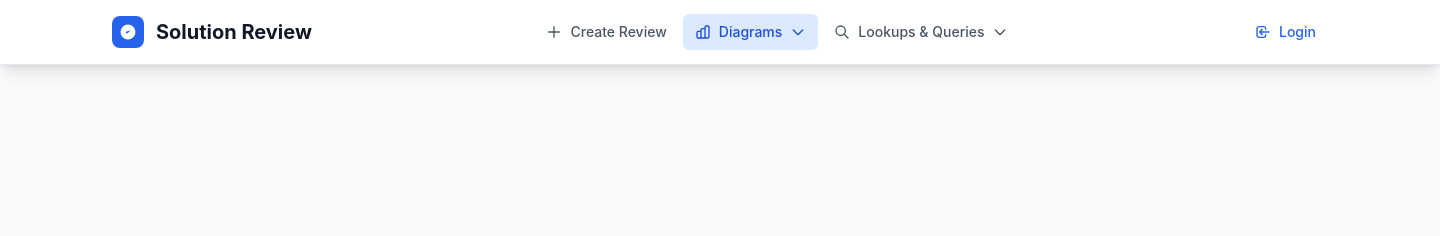
Test case: Navbar › Query & Lookup Dropdown › closes dropdown after selecting an option
Click the button "Lookups & Queries": (921,32) [822, 14, 1020, 50]
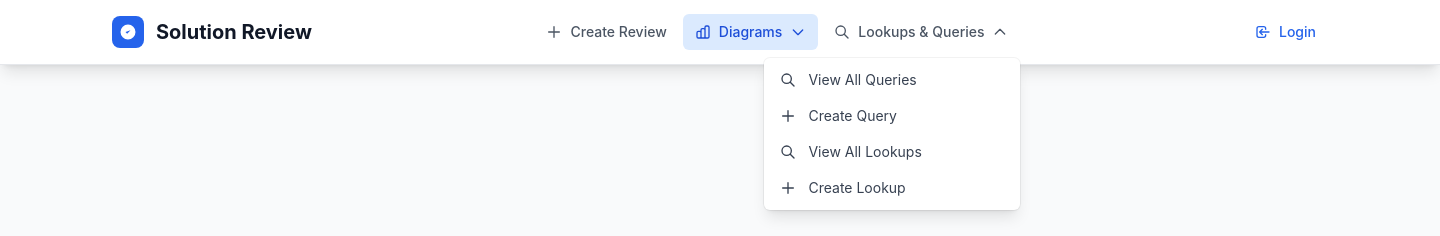
Click the button "View All Queries": (892,80) [764, 62, 1020, 98]
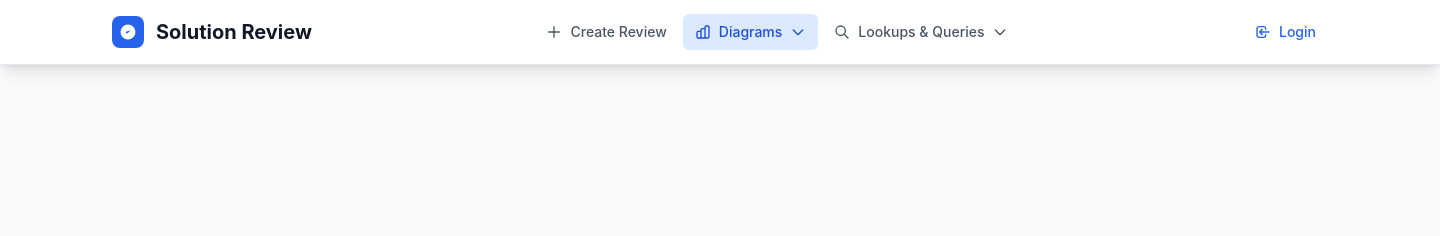
expect the button "View All Queries" is gone: met
